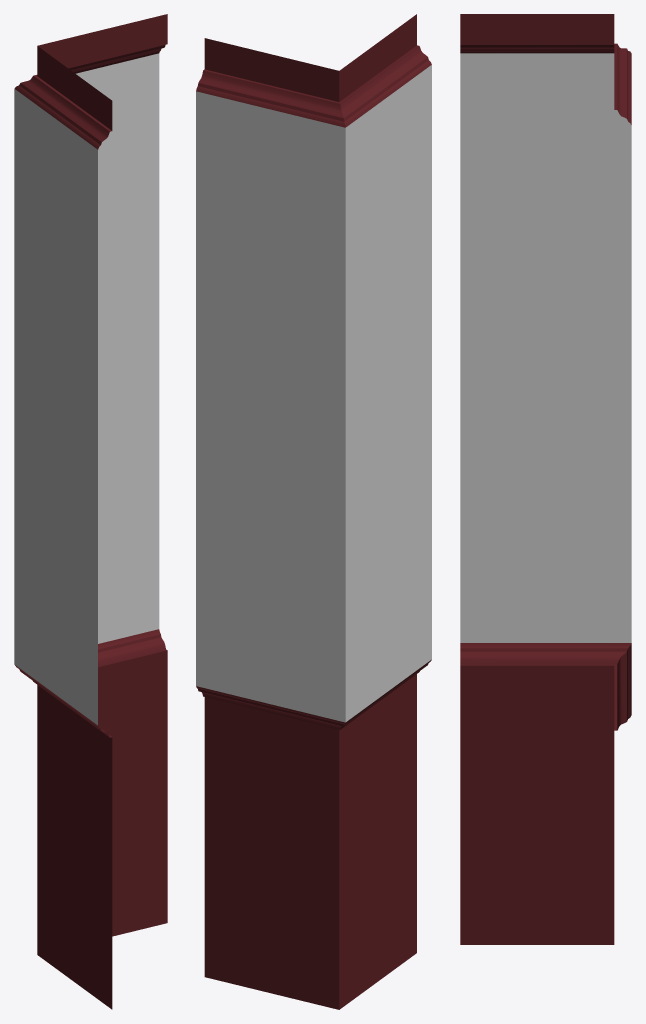
The model's file is sm_corner_50.fbx.
3 views of the same model, side by side, from view 1: azimuth 30°, elevation 25°; view 2: azimuth 150°, elevation 25°; view 3: azimuth 270°, elevation 25° (orthographic). The views are drawn at different scales.
Visible parts, largest first — view 1: sm_corner_50; view 2: sm_corner_50; view 3: sm_corner_50.
Part boxes in pixels (x1=…): sm_corner_50: x1=14, y1=14, x2=167, y2=1009; sm_corner_50: x1=196, y1=14, x2=431, y2=1009; sm_corner_50: x1=460, y1=14, x2=631, y2=944.
Bounding box in the file's own units: 50 × 300 × 50.
